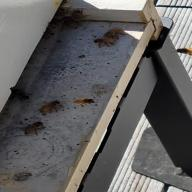Bee: (66, 96, 107, 115), (169, 47, 192, 57)
